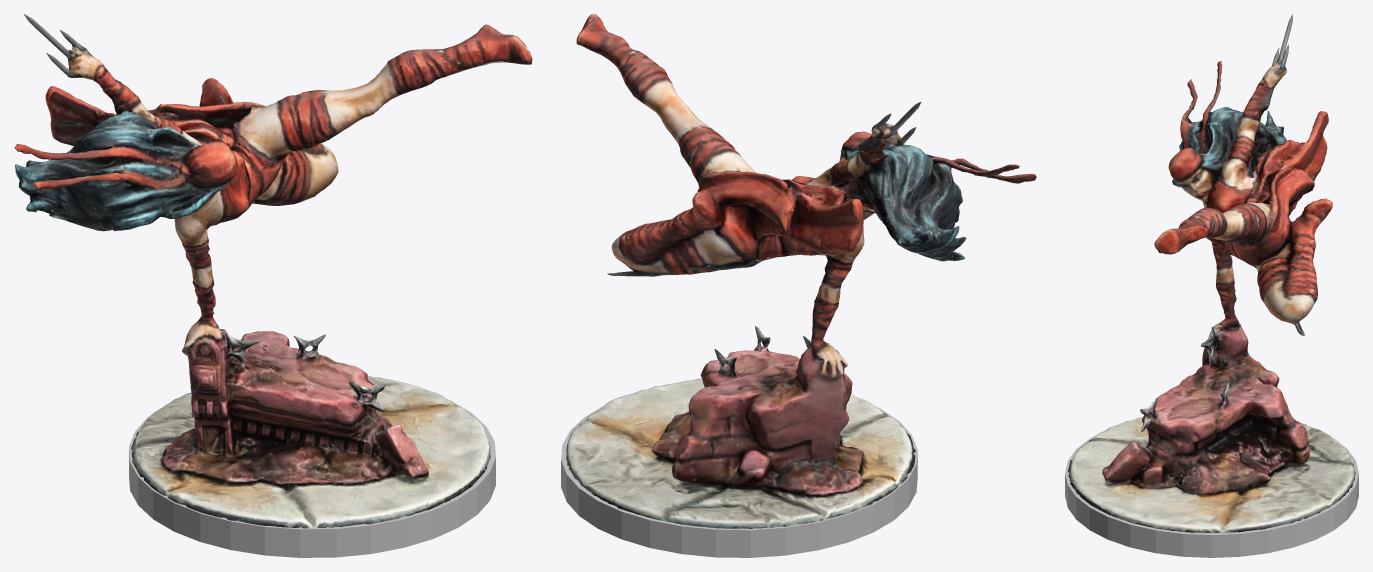
3 renders of one model, left to right at view 1: azimuth 30°, elevation 25°; view 2: azimuth 150°, elevation 25°; view 3: azimuth 270°, elevation 25°, orthographic. The views are drawn at different scales.
Visible parts, largest first — view 1: Elektra, default; view 2: Elektra, default; view 3: Elektra, default.
Boxes of the visible parts, box(x1,y1,x2,y2) form: Elektra: box(14, 14, 532, 528); default: box(129, 399, 495, 557); Elektra: box(566, 14, 1036, 528); default: box(561, 406, 917, 557); Elektra: box(1068, 14, 1355, 533); default: box(1065, 436, 1358, 557).
Bounding box in the file's own units: 2.08 × 2.01 × 1.38.
2 materials, 1 textured.
